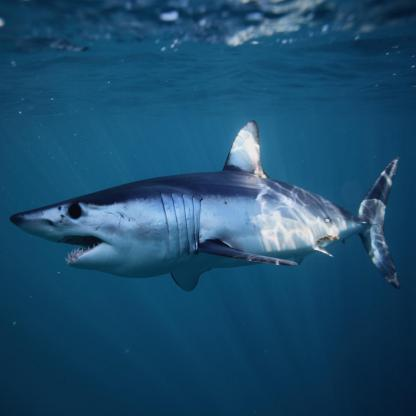mako-shark: (10, 119, 406, 296)
